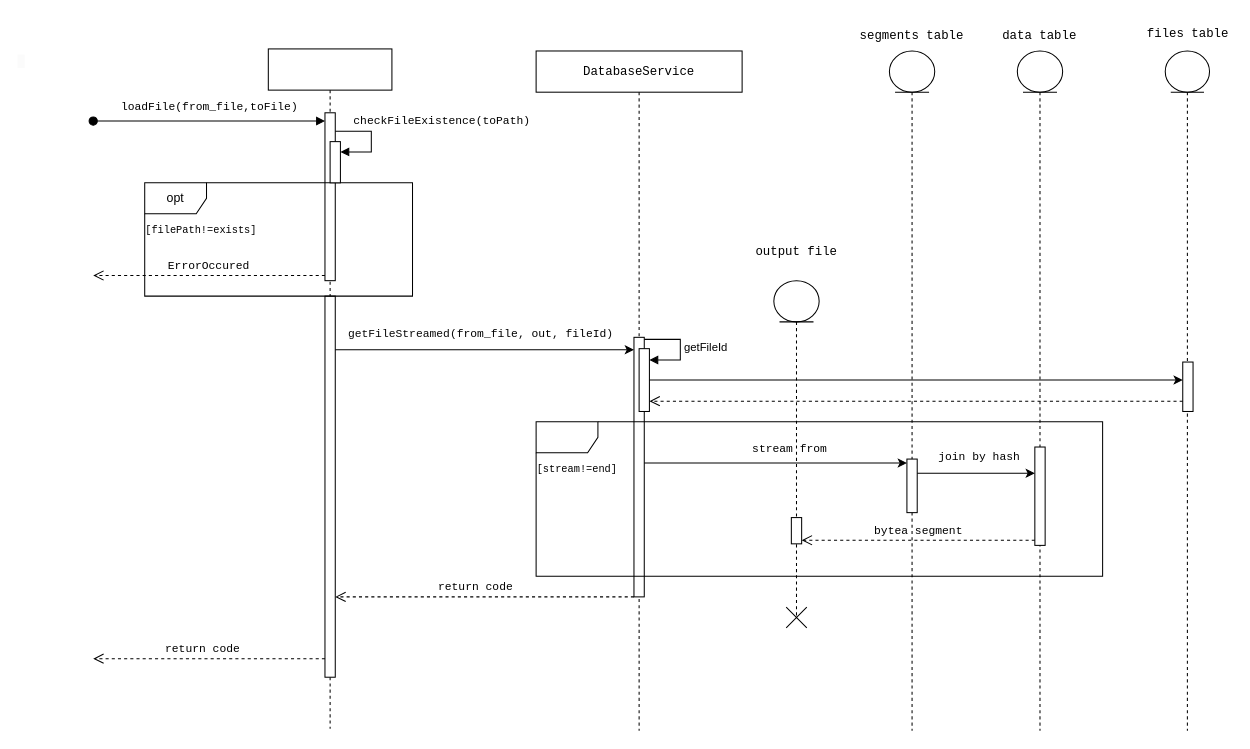
Some shapes in this 1250 by 749 pixel diagram are drawn without their labels. The shapes that lost their labels are listed below. From the top down, each one's box as (x1, y1, x2, y2) in pixels, then its label:
(267, 48, 392, 729): FileService
(535, 421, 1103, 576): loop
